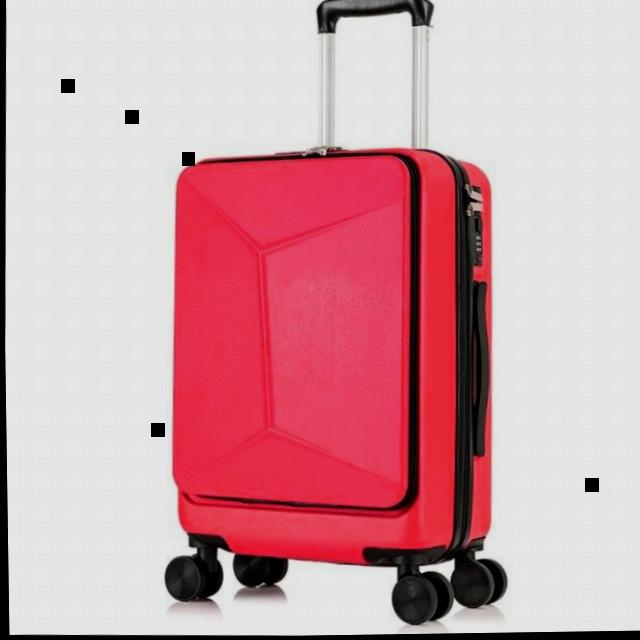luggage: (154, 135, 505, 576)
